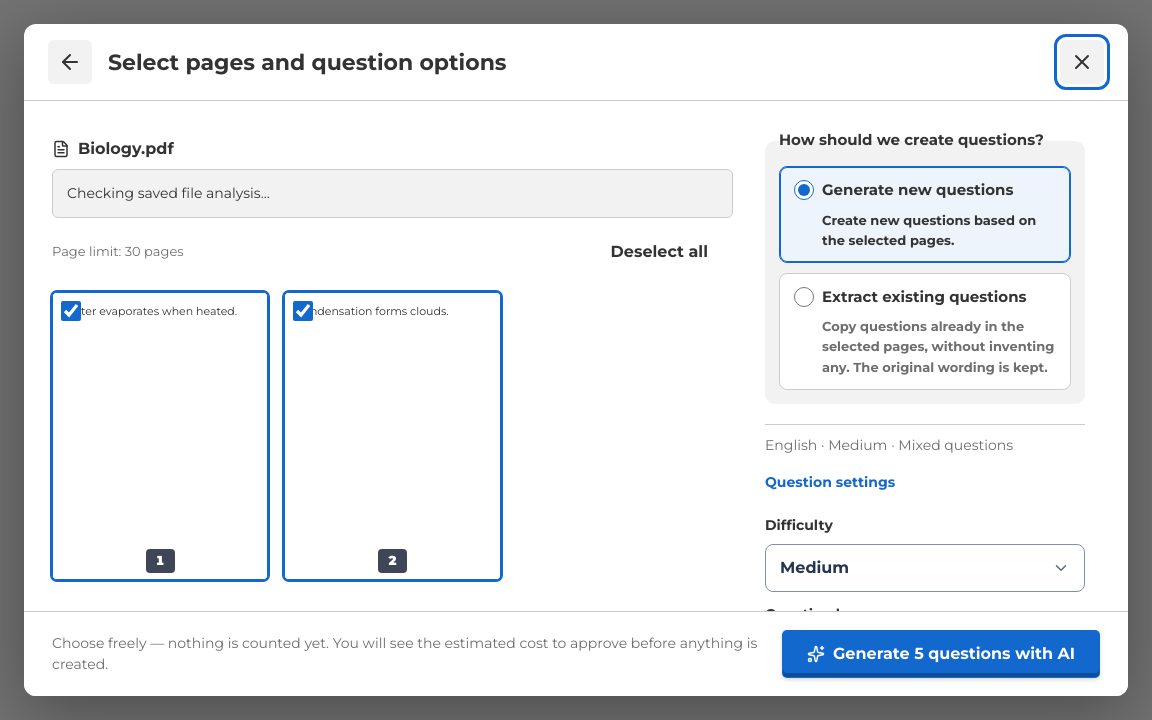
Scenario: reports a failed estimate and offers no confirmation to approve
What coordinates should you click on to do the following:
click the button "Generate 5 questions with AI"
I would click on:
 (941, 654)
Its box is [782,630,1100,678].
(page scrolled)
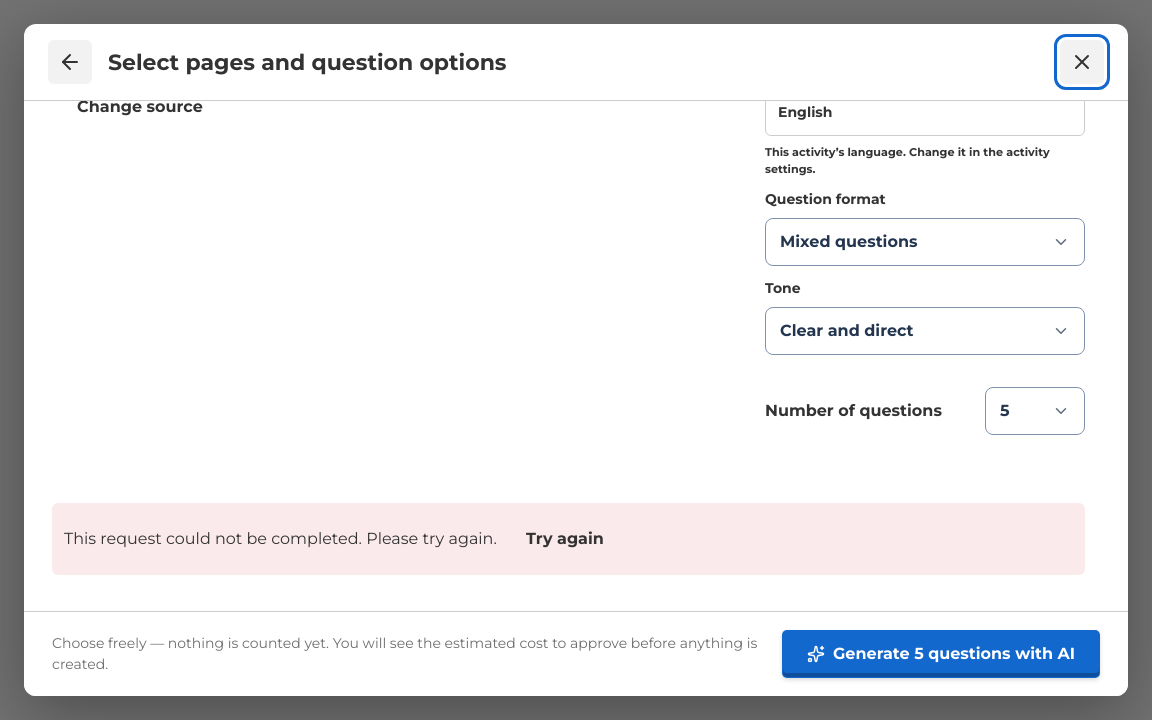
Expected: the text "This request could not be completed. Please try again." is shown, [64,529,497,548]
